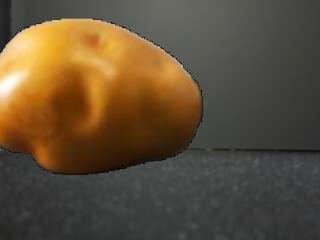Potato: (0, 19, 203, 176)
